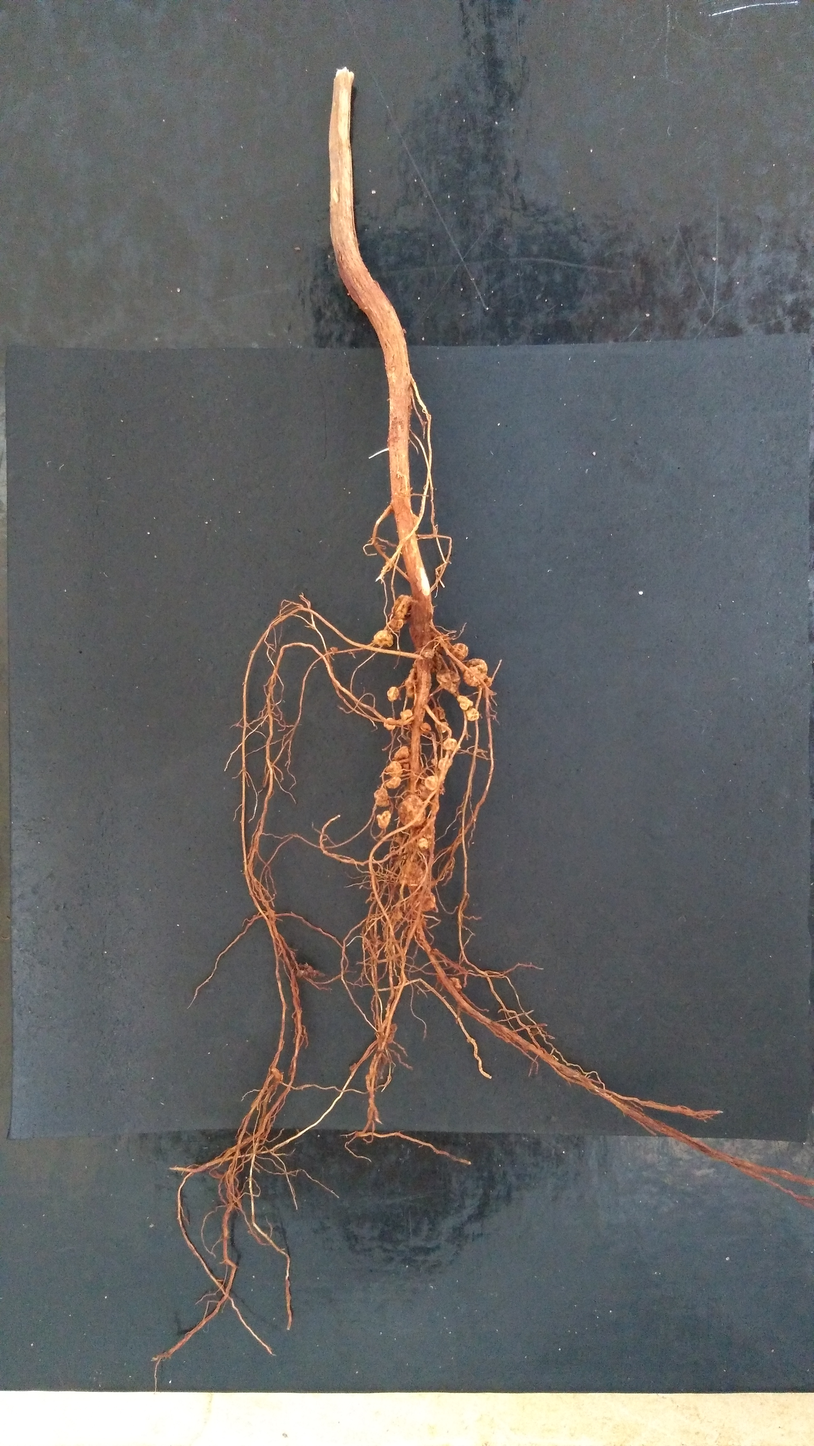nodule: (396, 793, 427, 829), (434, 667, 461, 694), (398, 860, 425, 887), (462, 666, 485, 688), (393, 593, 410, 621), (371, 629, 395, 648), (464, 657, 488, 676), (449, 640, 469, 661), (404, 667, 417, 699), (373, 786, 391, 808), (375, 809, 393, 830), (384, 760, 403, 778), (421, 893, 438, 913), (455, 694, 473, 710), (441, 737, 459, 753), (386, 1022, 398, 1045), (429, 705, 446, 721), (423, 774, 439, 791), (386, 684, 400, 703), (446, 976, 462, 992), (389, 616, 406, 631), (464, 706, 481, 721), (385, 775, 402, 790), (392, 746, 410, 760), (381, 716, 397, 731), (415, 837, 431, 852), (419, 646, 436, 660), (430, 655, 443, 673), (437, 757, 453, 771), (432, 720, 449, 733), (400, 708, 414, 720), (418, 721, 432, 732), (401, 762, 411, 774), (329, 646, 340, 656), (349, 1061, 358, 1071)
